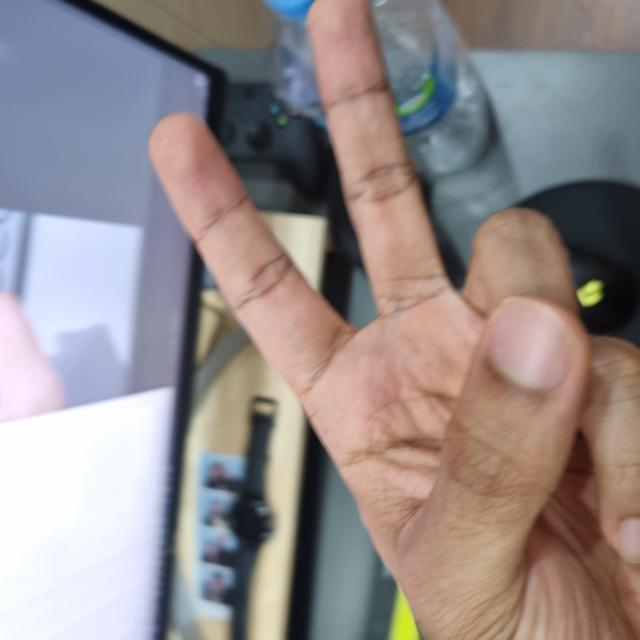Scissors: (1, 152, 635, 629)
